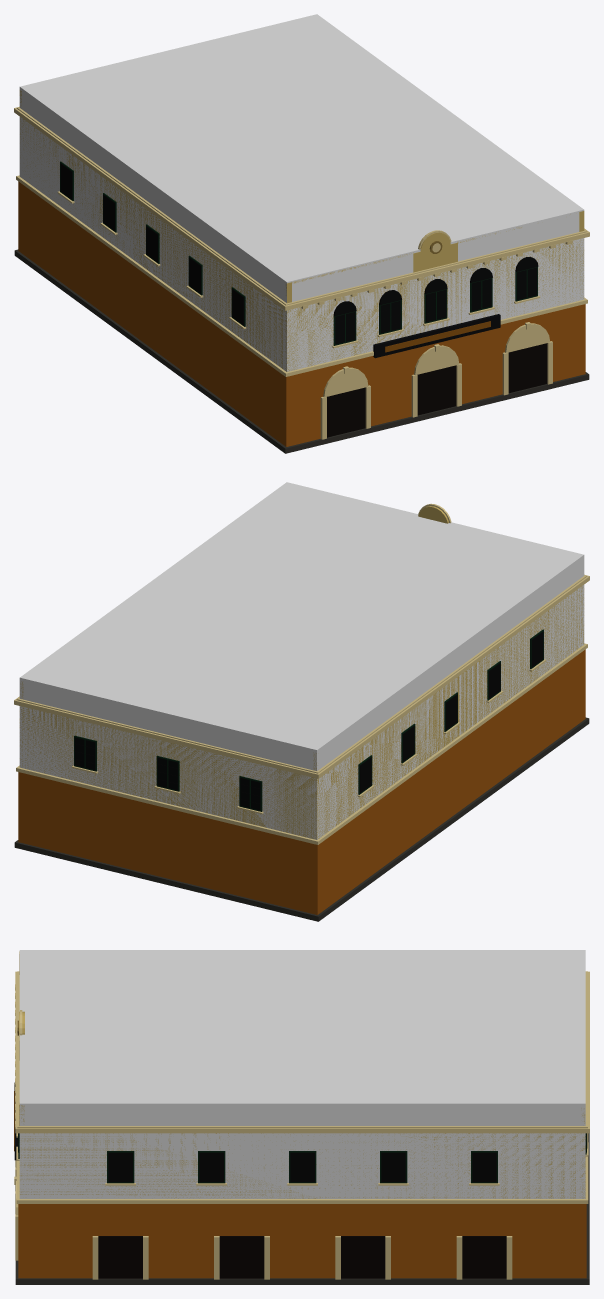
The model's file is B16_bank_heritage.glb.
3 renders of one model, top to bottom at view 1: azimuth 30°, elevation 25°; view 2: azimuth 150°, elevation 25°; view 3: azimuth 270°, elevation 25°, orthographic. The views are drawn at different scales.
Parts seen in each view (by area): view 1: COL_Main, LOD0; view 2: COL_Main, LOD0; view 3: COL_Main, LOD0.
Part boxes in pixels (<box>): COL_Main: <box>19,14,584,371</box>; LOD0: <box>14,90,589,453</box>; COL_Main: <box>19,482,584,839</box>; LOD0: <box>14,503,589,921</box>; COL_Main: <box>19,950,585,1198</box>; LOD0: <box>14,951,589,1284</box>.
Size of what is drawn, in the model's own units: 18.44 by 10.63 by 28.5.
